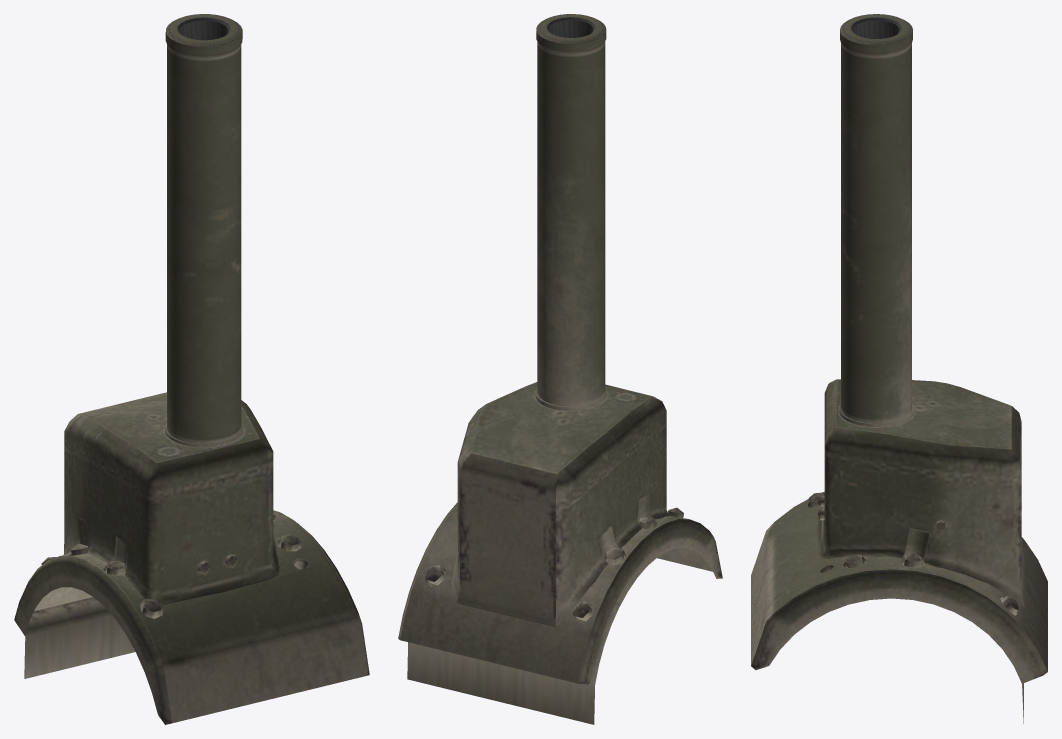
Rendered from Gun_05.glb.
3 views of the same model, side by side, from view 1: azimuth 30°, elevation 25°; view 2: azimuth 150°, elevation 25°; view 3: azimuth 270°, elevation 25° (orthographic). The views are drawn at different scales.
Parts seen in each view (by area): view 1: set_0_group_0; view 2: set_0_group_0; view 3: set_0_group_0.
Boxes of the visible parts, x1=… form: set_0_group_0: x1=14, y1=14, x2=369, y2=724; set_0_group_0: x1=398, y1=14, x2=722, y2=724; set_0_group_0: x1=751, y1=14, x2=1047, y2=723.
Bounding box in the file's own units: 0.7358 × 2.34 × 0.9711.
Materials: 1 (1 with a texture image).
